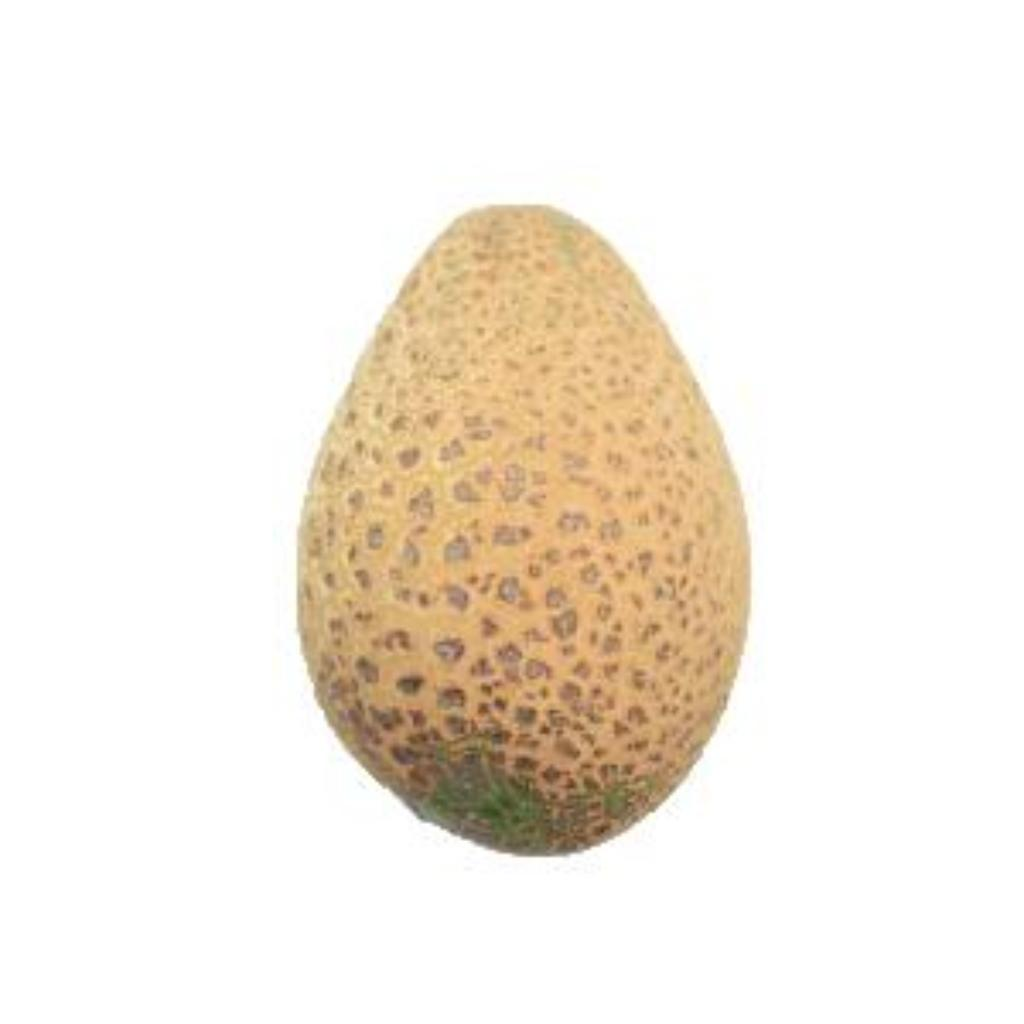cercospora_spot: (278, 192, 766, 870)
